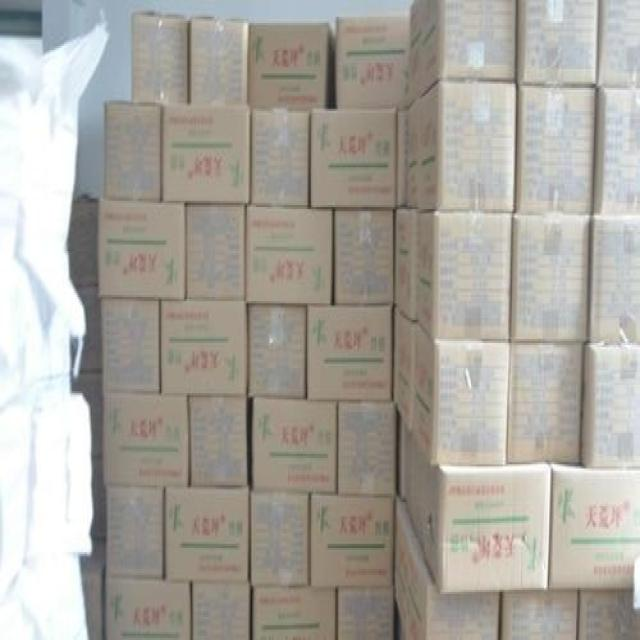box: (404, 427, 552, 594), (396, 496, 503, 640), (411, 326, 512, 466), (417, 79, 516, 215), (416, 213, 515, 343), (547, 464, 640, 592), (408, 0, 517, 107), (512, 211, 595, 345), (516, 84, 598, 215), (507, 341, 589, 466), (305, 305, 397, 402), (161, 107, 250, 207), (311, 109, 397, 209), (250, 397, 338, 494), (308, 494, 396, 590), (101, 395, 188, 492), (246, 207, 333, 303), (99, 203, 186, 299), (159, 301, 246, 397), (163, 494, 250, 590), (248, 23, 335, 111), (517, 0, 599, 88), (335, 15, 410, 109), (589, 218, 640, 347), (244, 301, 310, 399), (250, 105, 312, 209), (187, 397, 251, 494), (105, 100, 164, 205), (102, 492, 166, 588), (247, 494, 311, 590), (334, 207, 396, 305), (101, 297, 161, 397), (593, 88, 640, 215), (187, 17, 251, 107), (338, 399, 396, 498), (132, 10, 191, 107), (101, 581, 192, 640), (251, 586, 339, 640), (500, 590, 581, 640), (598, 0, 640, 88), (189, 584, 251, 640), (65, 192, 99, 284), (393, 312, 419, 429), (396, 207, 422, 322), (337, 590, 396, 640), (73, 282, 102, 379), (579, 594, 640, 640), (73, 372, 102, 460), (82, 538, 105, 640), (91, 458, 108, 542), (396, 406, 408, 500), (397, 109, 408, 209)
